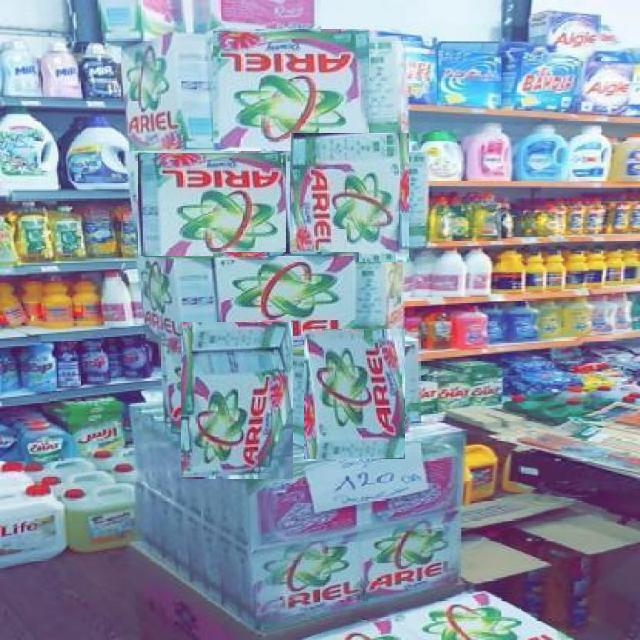Detergent: (212, 28, 369, 151), (181, 321, 293, 479), (137, 152, 286, 256), (290, 134, 409, 262), (213, 253, 359, 351), (304, 328, 405, 459), (362, 519, 468, 602), (255, 543, 367, 621)
